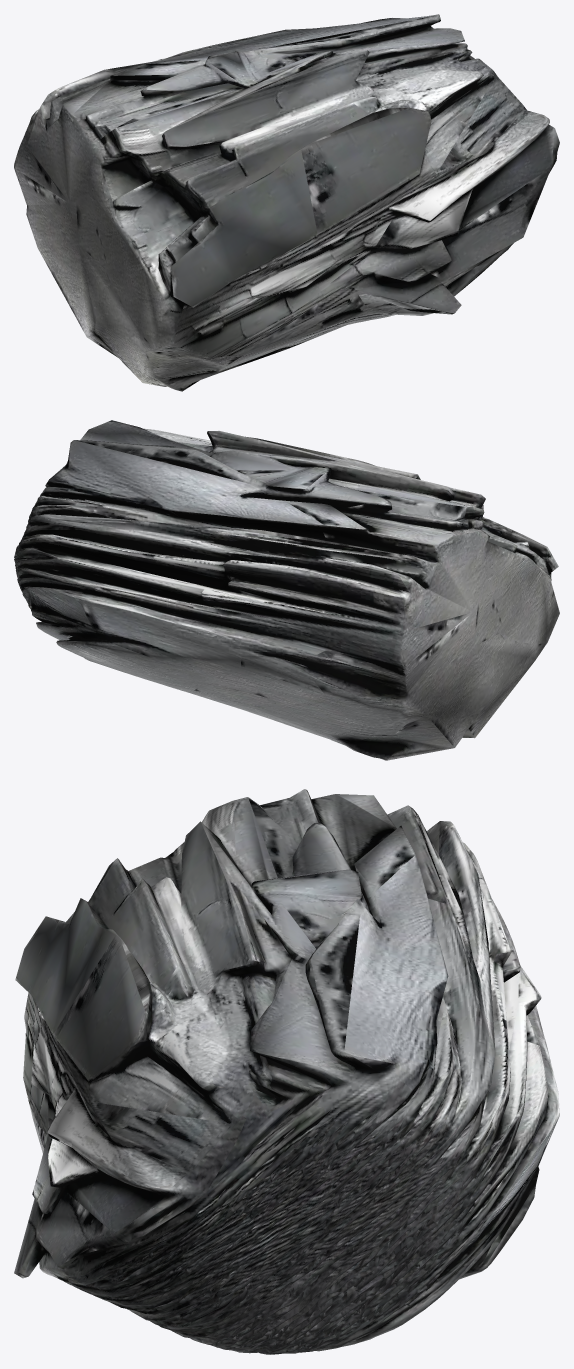
Rendered from graphite.glb.
The picture shows the model from 3 angles, top to bottom: view 1: azimuth 30°, elevation 25°; view 2: azimuth 150°, elevation 25°; view 3: azimuth 270°, elevation 25°; orthographic projection. The views are drawn at different scales.
Visible parts, largest first — view 1: node_0; view 2: node_0; view 3: node_0.
Boxes of the visible parts, bbox=[...] form: node_0: bbox=[14, 14, 559, 391]; node_0: bbox=[14, 420, 559, 760]; node_0: bbox=[14, 789, 559, 1354].
Bounding box in the file's own units: 1.01 × 0.5864 × 0.7264.
Materials: 1 (1 with a texture image).
